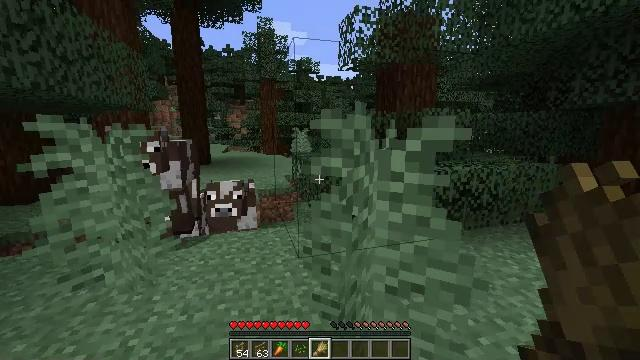cow: (129, 130, 197, 237), (201, 180, 259, 235)
